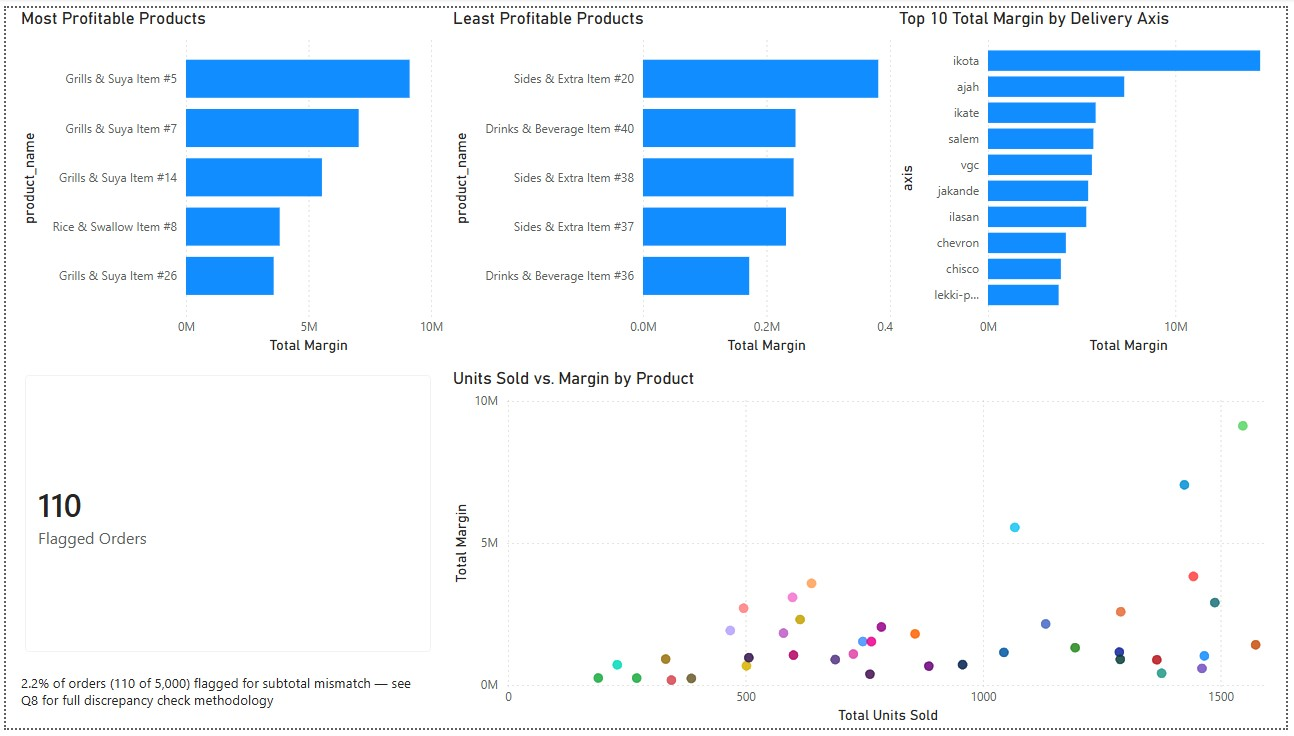

Layout of this report page (visuals, bound fields, positions):
{"tool":"powerbi","page":{"name":"Product & Revenue","canvas":[1280,720],"ordinal":1},"visuals":[{"type":"clusteredBarChart","title":"Most Profitable Products","fields":{"Category":["products.product_name"],"Y":["order_items.Total Margin"]},"box":[10,0,432,350],"z":0},{"type":"clusteredBarChart","title":"Least Profitable Products","fields":{"Category":["products.product_name"],"Y":["order_items.Total Margin"]},"box":[442,0,461,350],"z":1000},{"type":"clusteredBarChart","title":"Top 10 Total Margin by Delivery Axis","fields":{"Category":["orders.axis"],"Y":["order_items.Total Margin"]},"box":[888,0,392,350],"z":2000},{"type":"cardVisual","fields":{"Data":["orders.Flagged Orders"]},"box":[2,350,440,311],"z":3000},{"type":"textbox","box":[10,661,415,59],"z":4000},{"type":"scatterChart","title":"Units Sold vs. Margin by Product","fields":{"X":["order_items.Total Units Sold"],"Y":["order_items.Total Margin"],"Series":["products.product_name"]},"box":[442,360,838,360],"z":5000}]}

Visuals, with their boxes in screenshot pixels (x1, y1, x2, y2), scaled from the page's 1280x720 canvas onto the 1294x736 screenshot:
"Most Profitable Products" clusteredBarChart: [10,0,447,358]
"Least Profitable Products" clusteredBarChart: [447,0,913,358]
"Top 10 Total Margin by Delivery Axis" clusteredBarChart: [898,0,1293,358]
cardVisual - orders.Flagged Orders: [2,358,447,676]
textbox: [10,676,430,735]
"Units Sold vs. Margin by Product" scatterChart: [447,368,1293,735]
